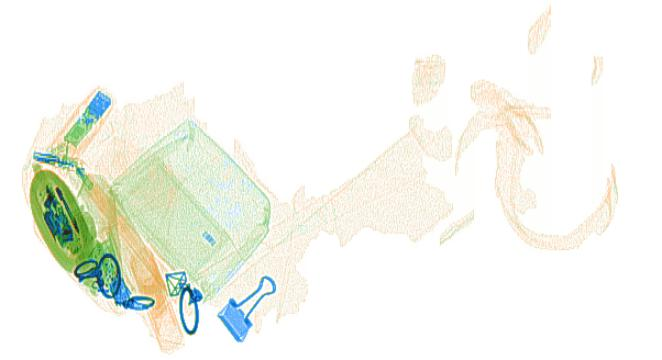USBFlashDisk: (63, 88, 113, 149)
